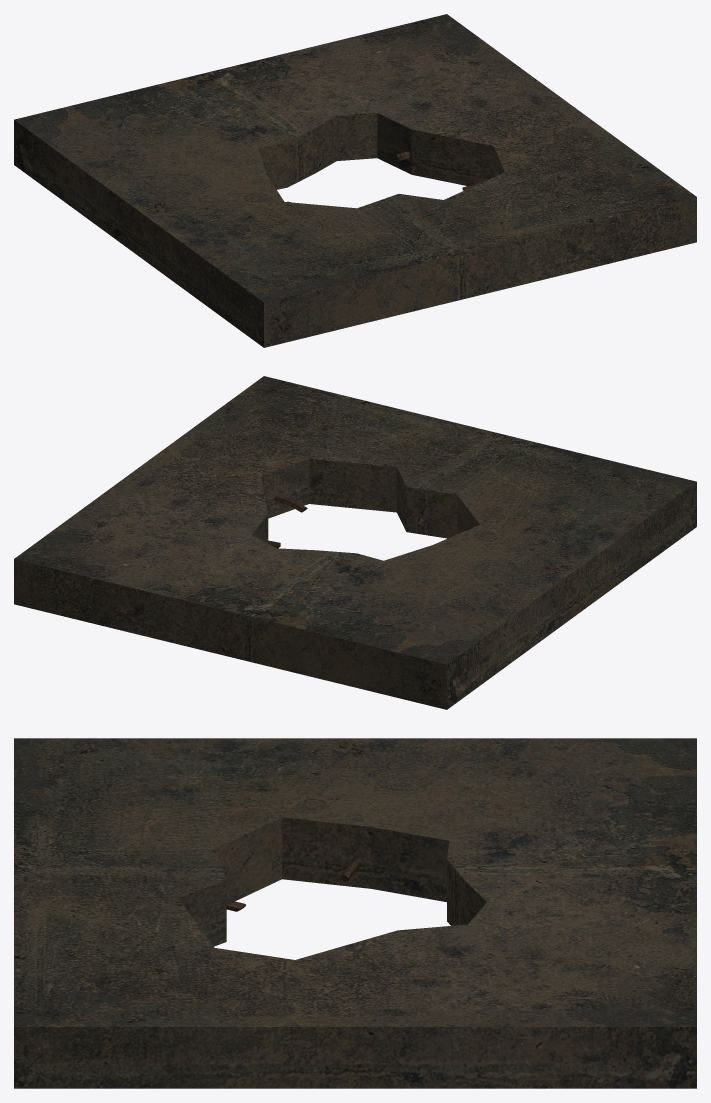
The model's file is floor_ceiling_hr_2_hole.obj.
The picture shows the model from 3 angles, top to bottom: view 1: azimuth 30°, elevation 25°; view 2: azimuth 150°, elevation 25°; view 3: azimuth 270°, elevation 25°; orthographic projection. The views are drawn at different scales.
Visible parts, largest first — view 1: floor_ceiling_hr_2_hole; view 2: floor_ceiling_hr_2_hole; view 3: floor_ceiling_hr_2_hole.
Boxes of the visible parts, x1,y1,x2,y2 form: floor_ceiling_hr_2_hole: (14,14,696,347); floor_ceiling_hr_2_hole: (14,376,696,709); floor_ceiling_hr_2_hole: (14,738,696,1088).
Size of the model in its own units: 4 by 0.4 by 4.
